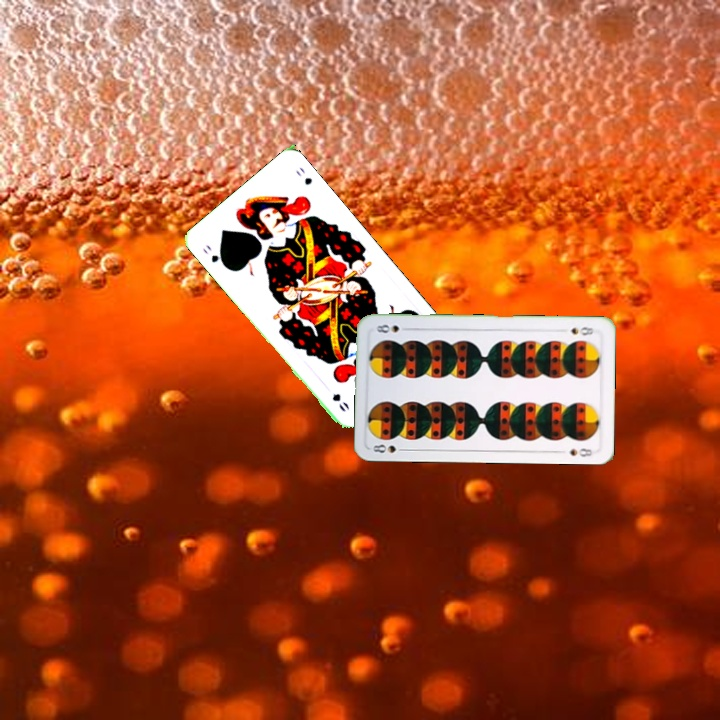GO: (199, 240, 229, 270)
S8: (369, 440, 409, 456), (567, 323, 596, 338)
